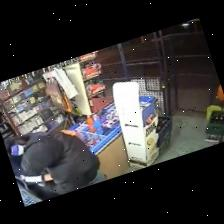person: (7, 131, 105, 195)
